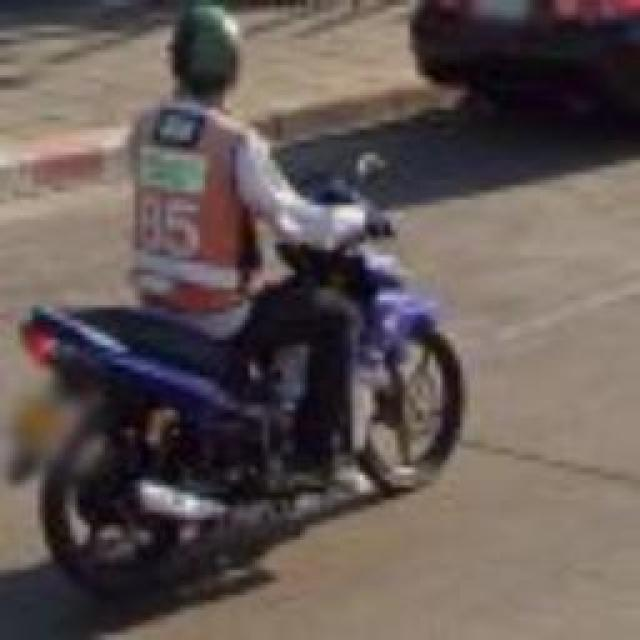Mobil: (410, 2, 638, 122)
Motor: (5, 173, 465, 610)
